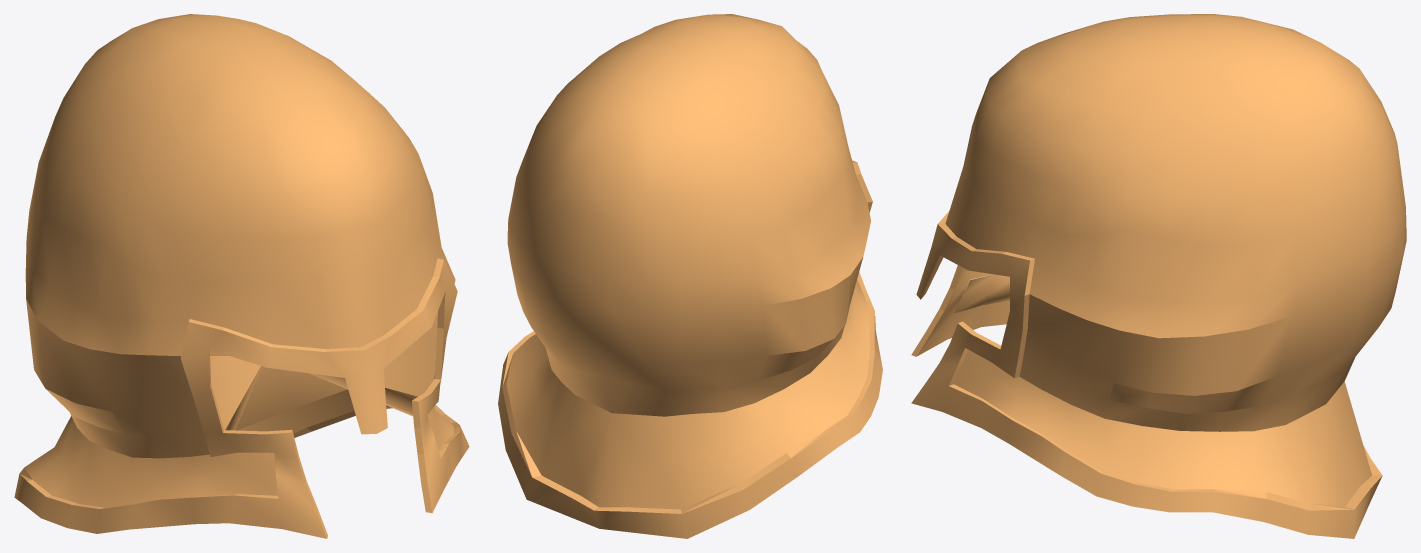
File: helmet_bronze.glb
3 views of the same model, side by side, from view 1: azimuth 30°, elevation 25°; view 2: azimuth 150°, elevation 25°; view 3: azimuth 270°, elevation 25° (orthographic). The views are drawn at different scales.
Parts seen in each view (by area): view 1: Sphere001; view 2: Sphere001; view 3: Sphere001.
Boxes of the visible parts, x1,y1,x2,y2 form: Sphere001: (14, 14, 469, 538); Sphere001: (498, 14, 882, 538); Sphere001: (911, 14, 1406, 538).
Bounding box in the file's own units: 0.2157 × 0.2578 × 0.2457.
